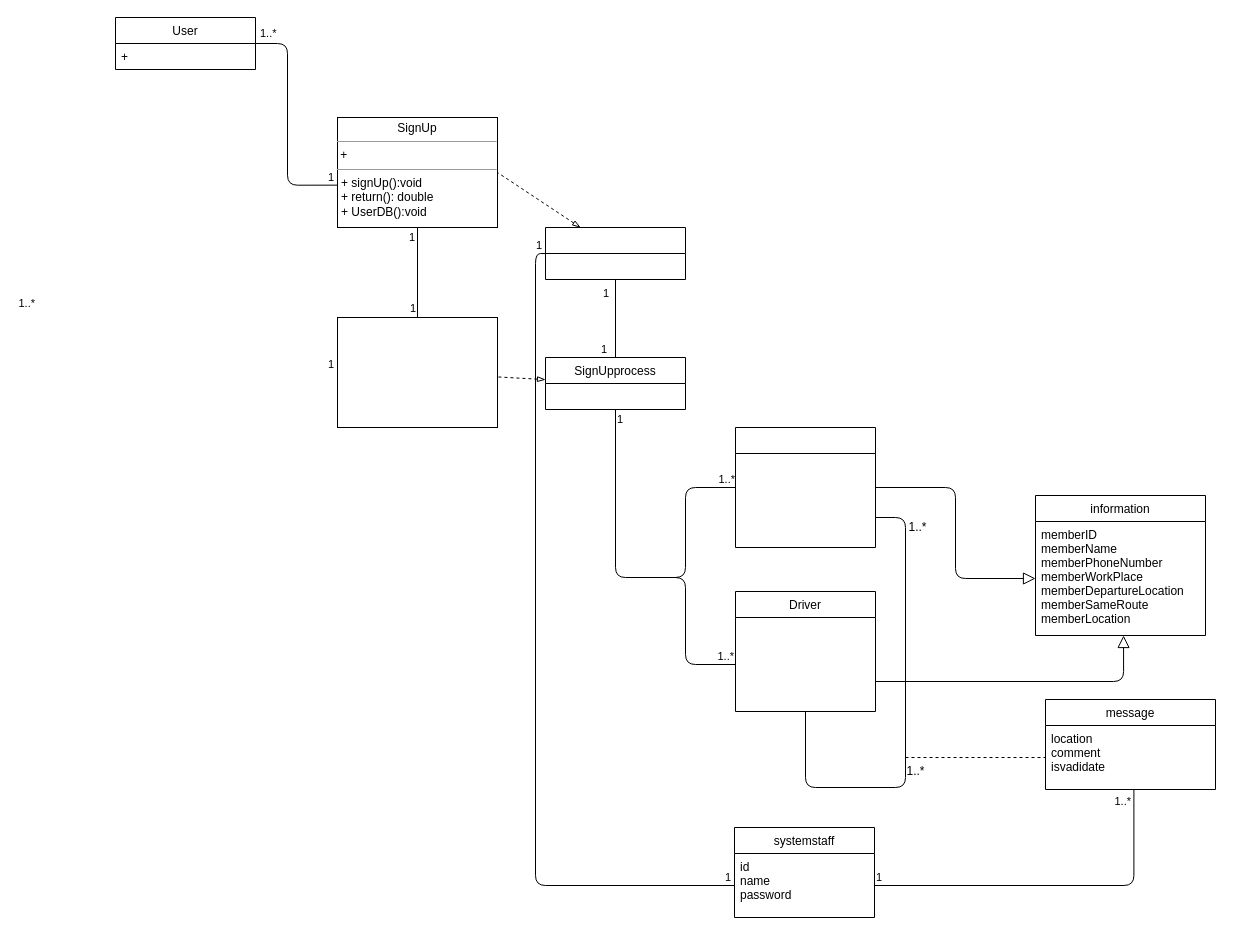
Some shapes in this 1233 by 938 pixel diagram are drawn without their labels. The shapes that lost their labels are listed below. From the top down, each one's centre as x and y in pixels, then its label:
At (x=615, y=253): "SignInprocess".
At (x=417, y=372): "SignIn + + signIn():void + UserDB():void".
At (x=805, y=487): "Passenger".
